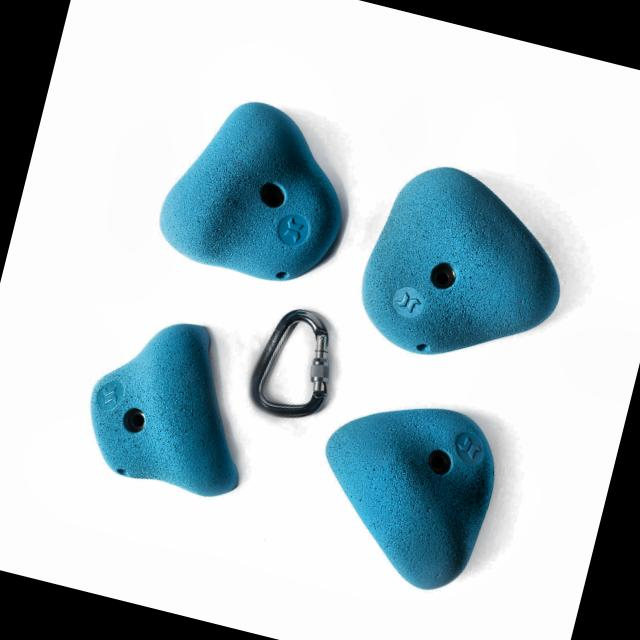Hold: (340, 149, 594, 395), (298, 380, 522, 604), (61, 295, 288, 513), (150, 82, 363, 294)
